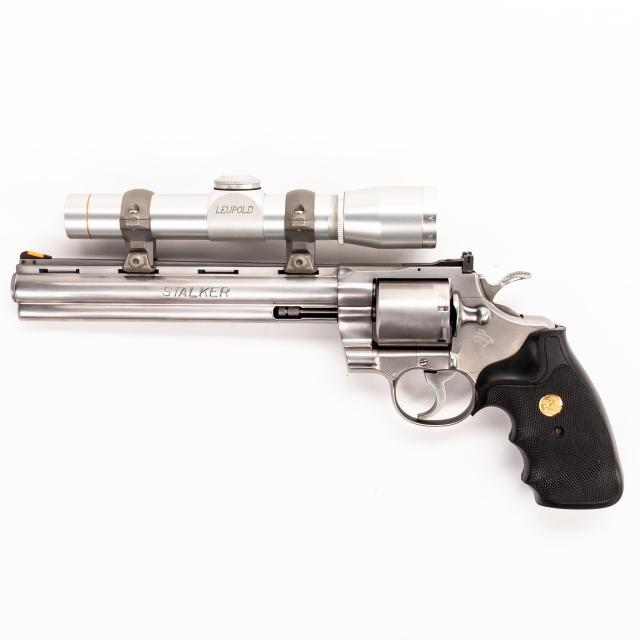handgun: (10, 169, 625, 511)
